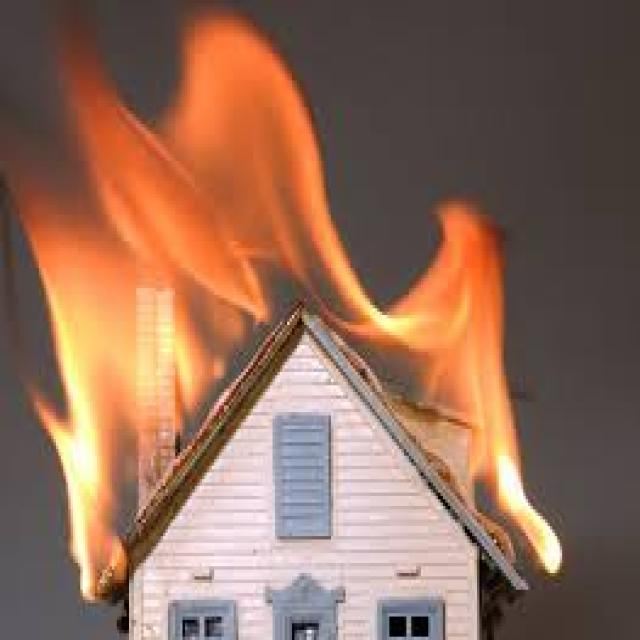fire: (44, 55, 325, 359), (407, 201, 567, 580), (46, 383, 164, 585)
